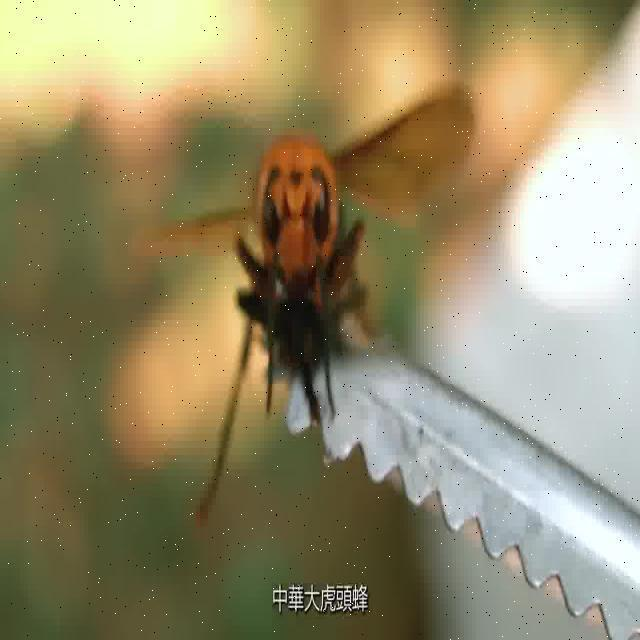Wasp: (132, 77, 476, 446)
